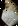with_mask: (1, 1, 18, 26)
